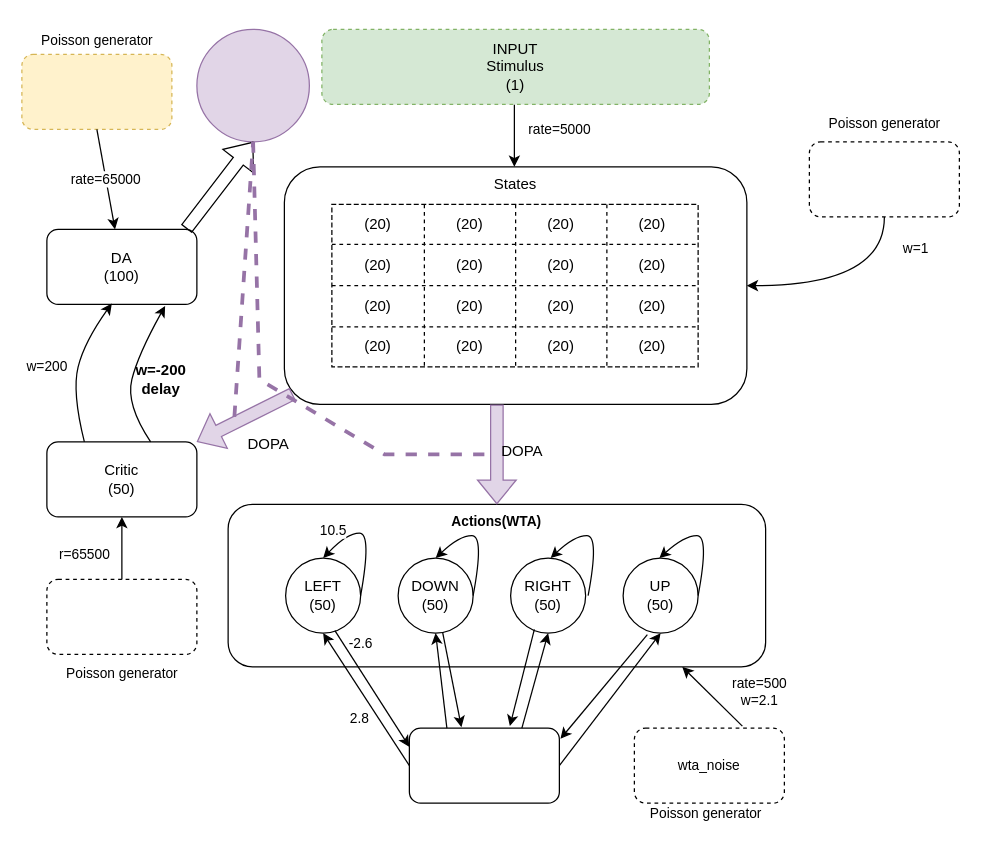
Some shapes in this 981 by 853 pixel diagram are drawn without their labels. The box of each missing label's shape, as (x1, y1, x2, y2) in pixels:
critic noise (1): (46, 578, 197, 654)
noise (1): (808, 141, 959, 217)
reward stimulus (1): (21, 53, 172, 129)
VOLUME TRANSMITTER: (196, 28, 309, 142)
wta_inh (50): (408, 727, 559, 803)
